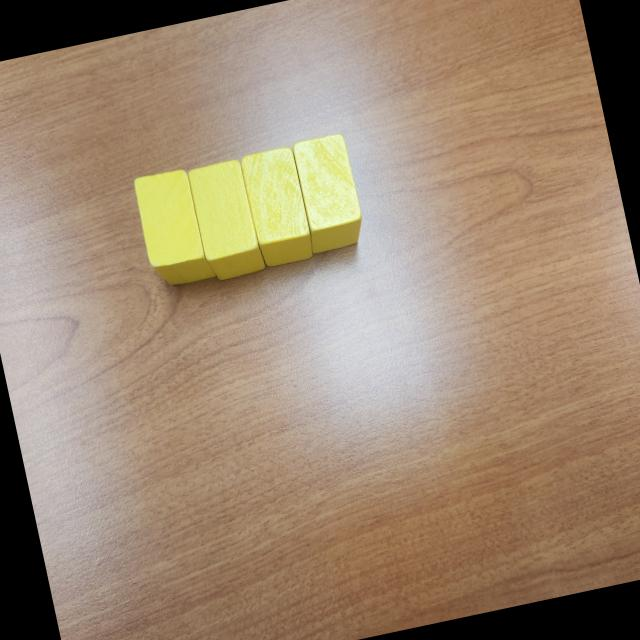yellow: (132, 167, 216, 290), (286, 130, 368, 254), (186, 156, 266, 282), (237, 144, 316, 269)
